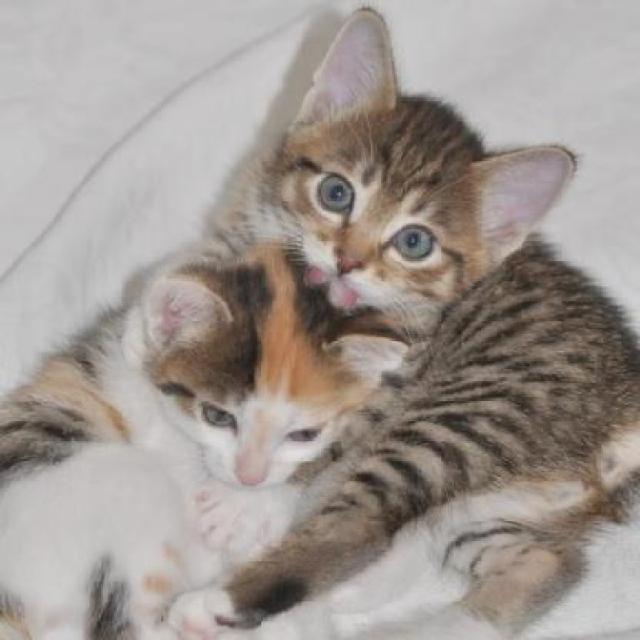cat: (215, 9, 640, 640), (0, 255, 411, 640)
